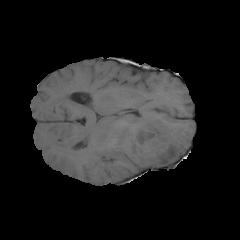glioma: (115, 115, 193, 169)
